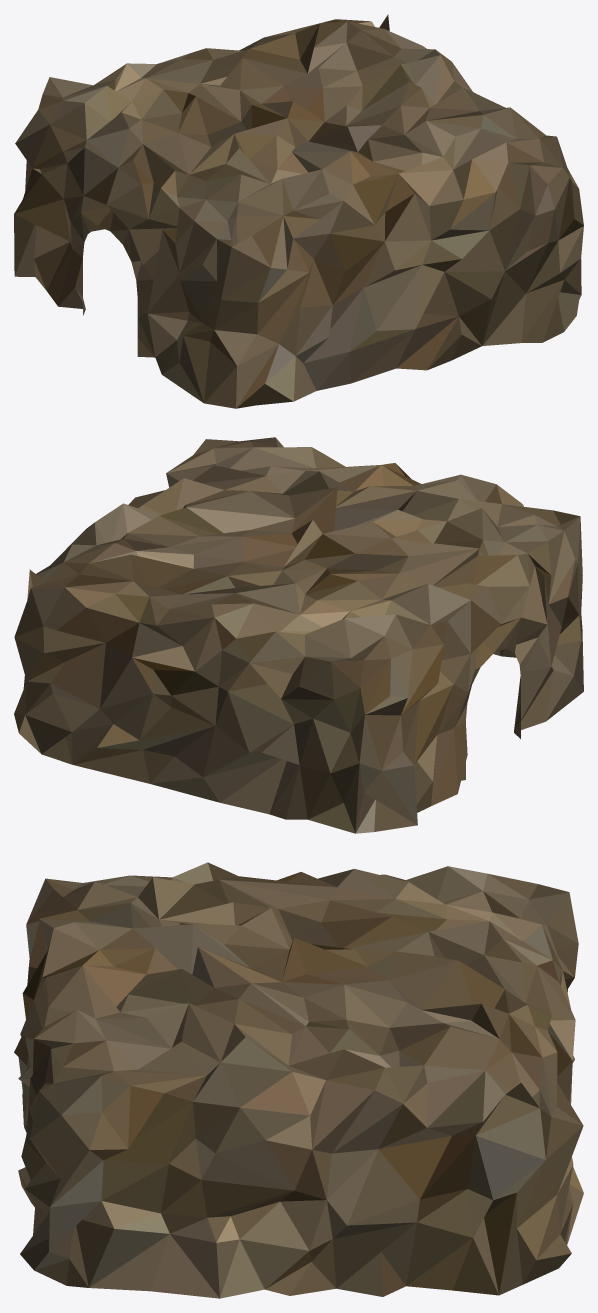
Rendered from Cave-Room1Exit.fbx.
3 renders of one model, top to bottom at view 1: azimuth 30°, elevation 25°; view 2: azimuth 150°, elevation 25°; view 3: azimuth 270°, elevation 25°, orthographic. The views are drawn at different scales.
Parts seen in each view (by area): view 1: Cave-Room1Exit; view 2: Cave-Room1Exit; view 3: Cave-Room1Exit.
Part boxes in pixels (x1,y1,x2,y2): Cave-Room1Exit: [14, 14, 583, 408]; Cave-Room1Exit: [14, 437, 583, 833]; Cave-Room1Exit: [14, 862, 583, 1298].
Bounding box in the file's own units: 2127 × 969 × 2129.
